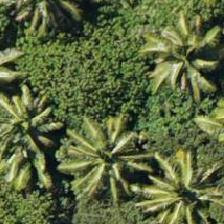coconut_tree: (50, 115, 140, 205), (137, 11, 223, 101), (135, 138, 223, 223), (0, 91, 56, 181)
